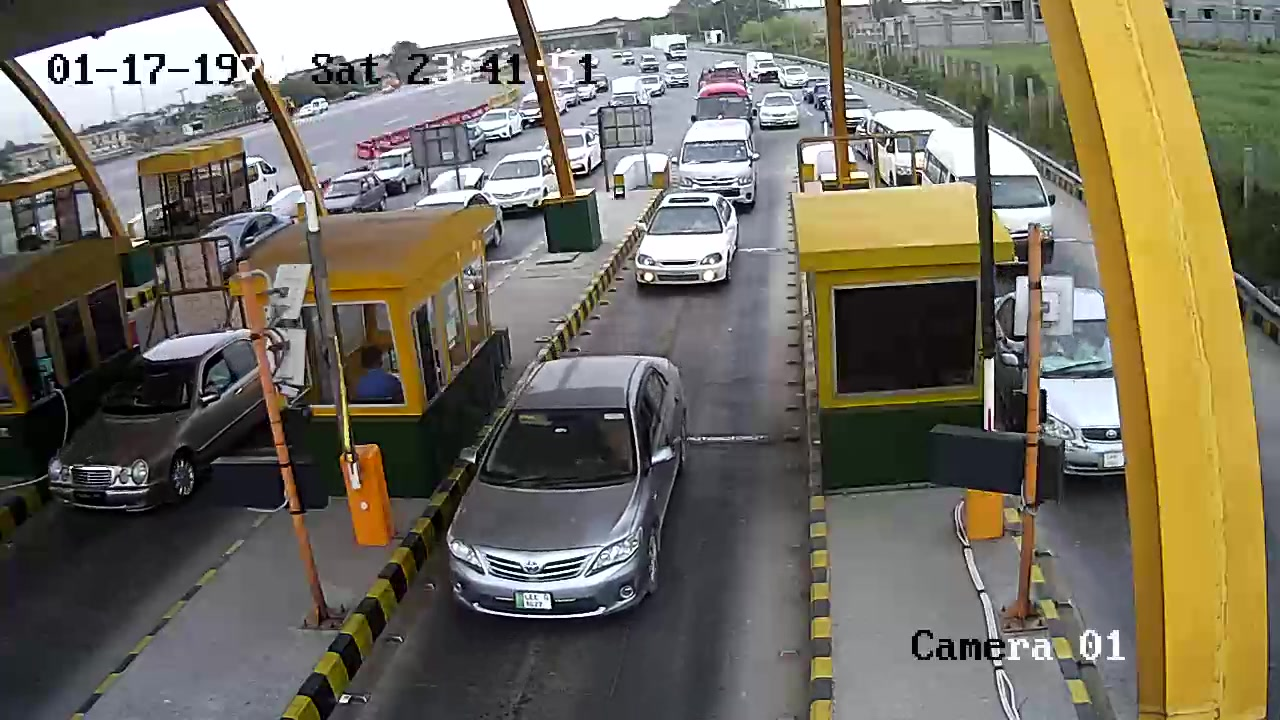F1: (443, 346, 710, 634), (627, 189, 747, 304)
